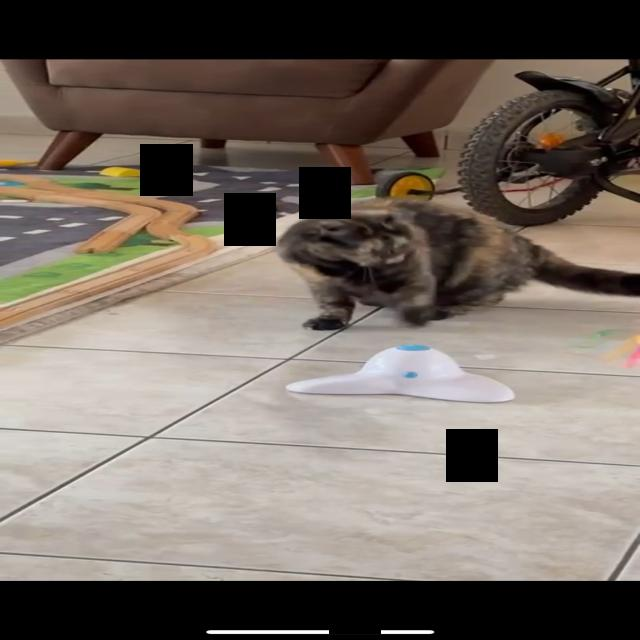authorized: (274, 195, 639, 331)
